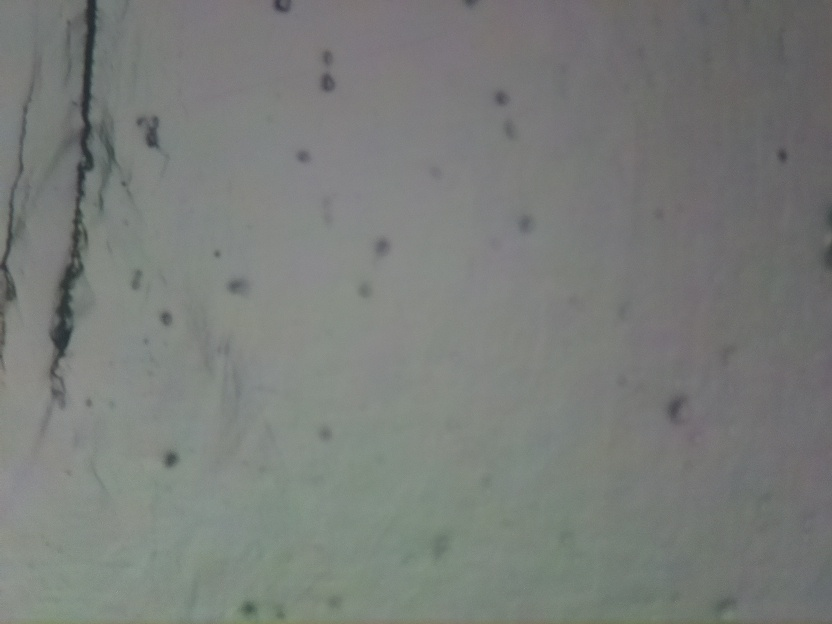crack: (43, 0, 100, 385), (0, 73, 35, 357)
